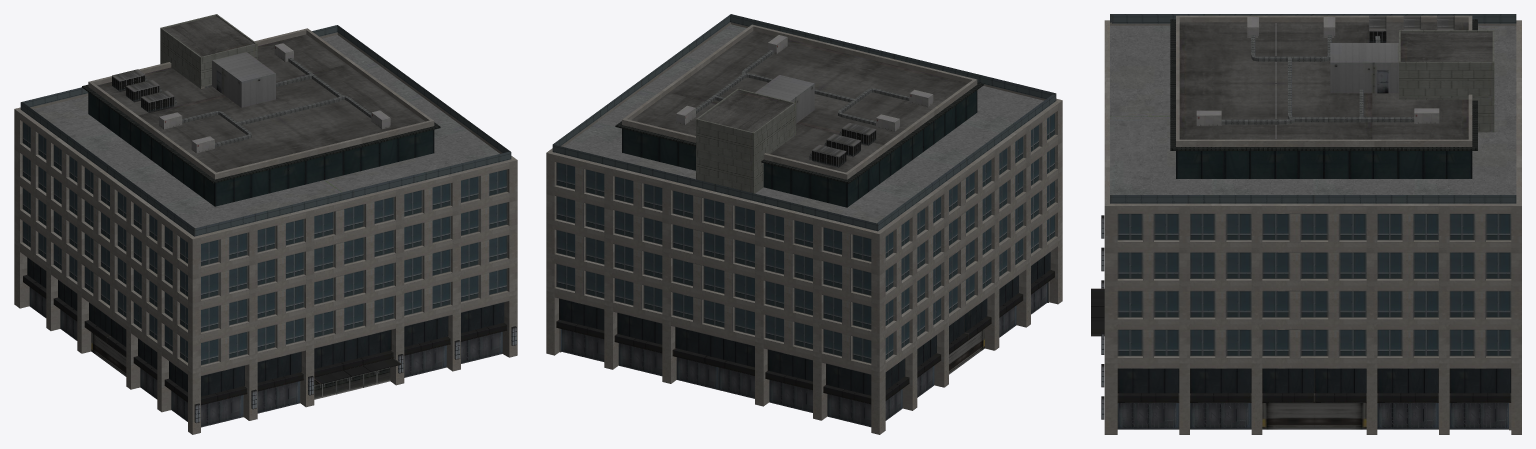
3 views of the same model, side by side, from view 1: azimuth 30°, elevation 25°; view 2: azimuth 150°, elevation 25°; view 3: azimuth 270°, elevation 25° (orthographic). The views are drawn at different scales.
Size of the model in its own units: 3200 by 2376 by 3137.
Materials: 1 (1 with a texture image).
